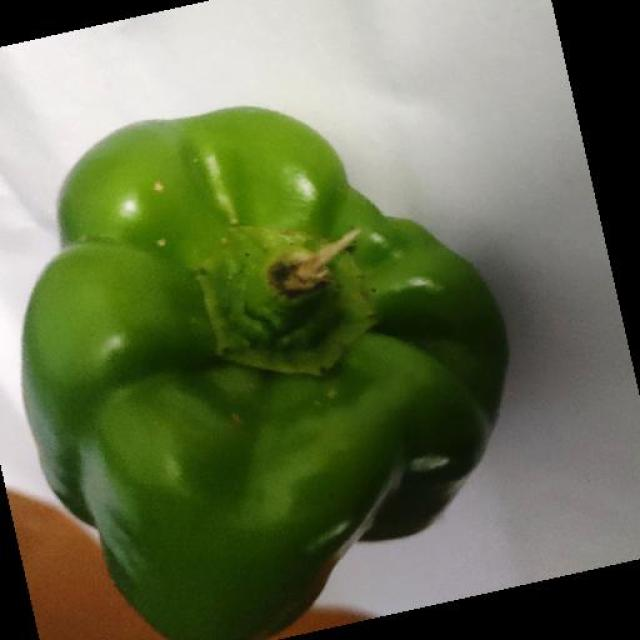Fresh_Capsicum: (35, 89, 514, 595)
